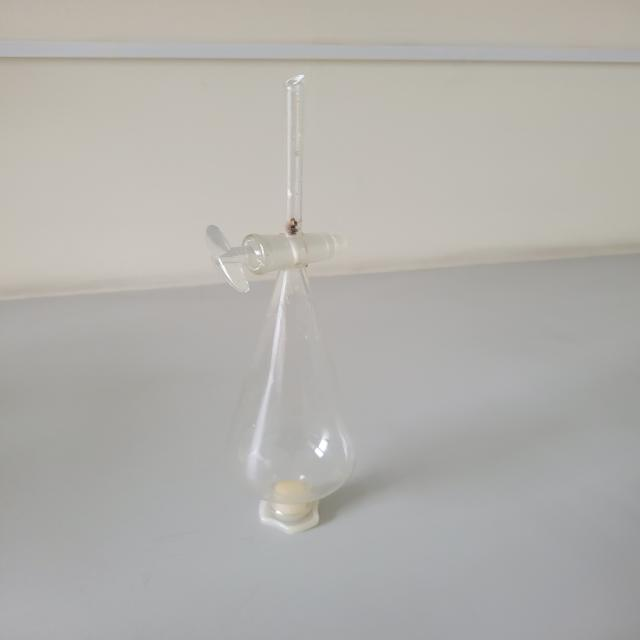Separating_Funnel: (182, 37, 412, 569)
